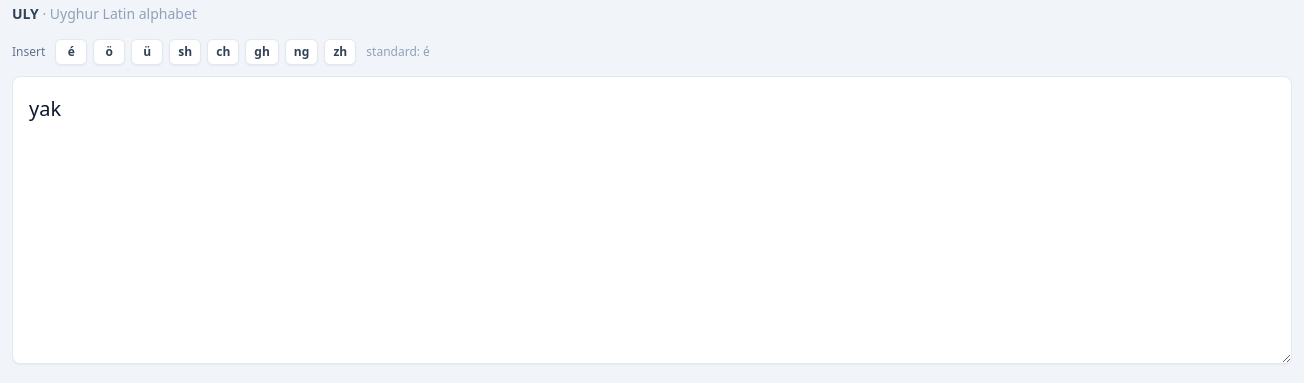
Test case: TextInput › inserts helper text at the current selection
Click the button "é" at (71, 52), box [55,39,87,65]
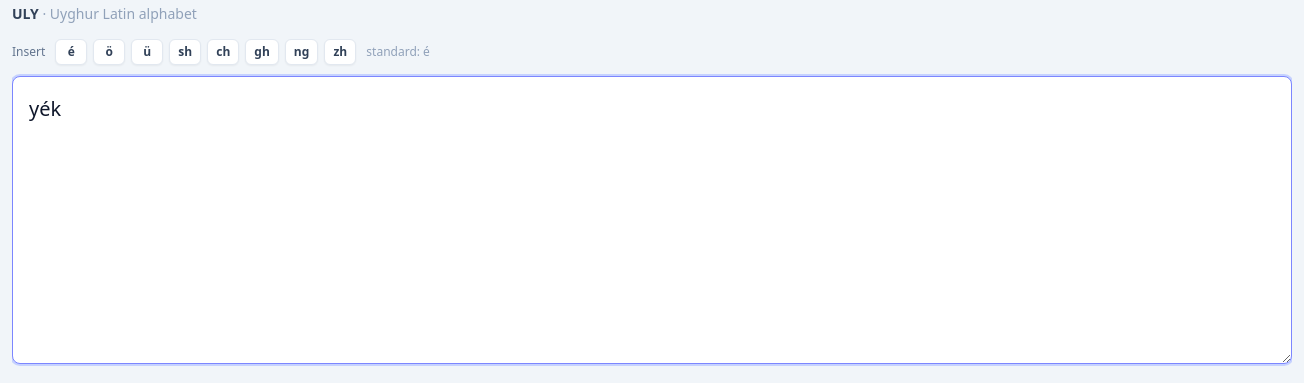
expect the text box labelled "ULY · Uyghur Latin alphabet" holds "yék": met
